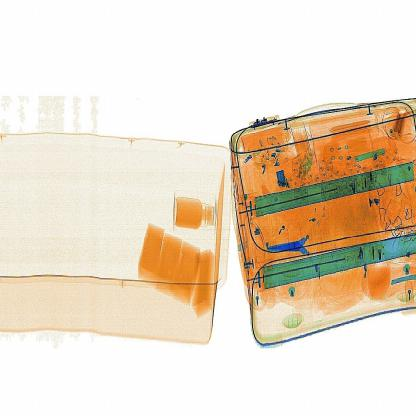gun: (266, 222, 342, 272)
